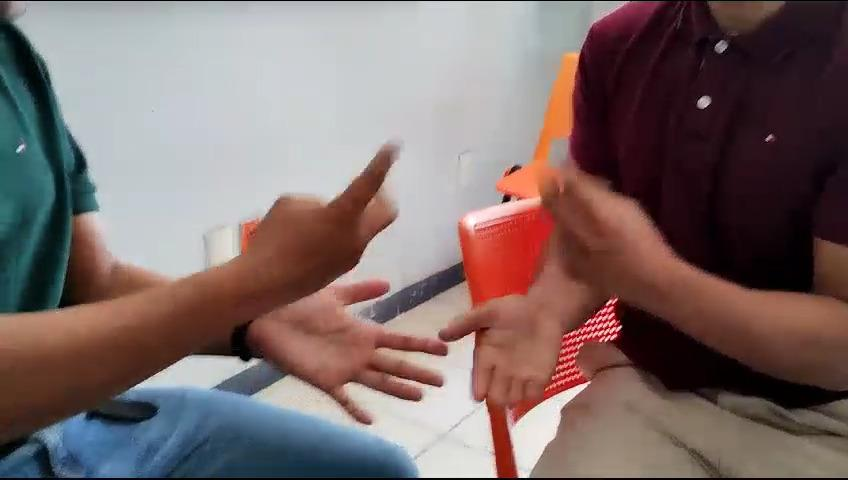Paper: (248, 262, 457, 434), (428, 281, 575, 419)
Scissor: (233, 136, 407, 324)
